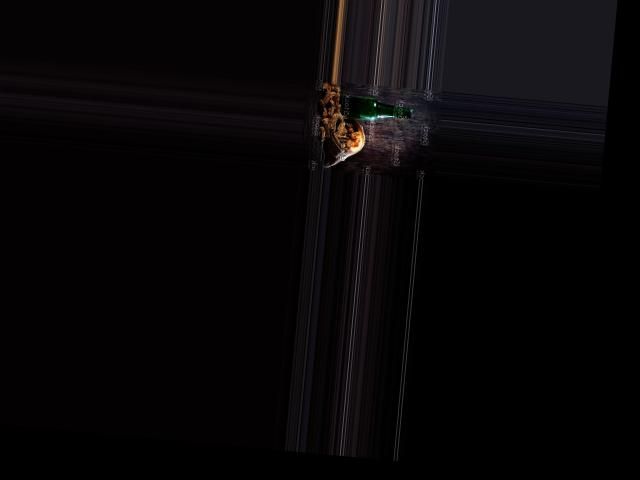beer: (332, 94, 413, 124)
